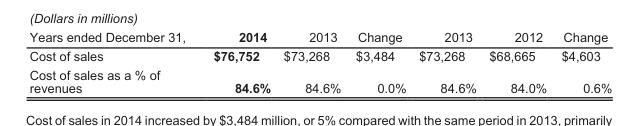table: (28, 29, 611, 94)
table column: (28, 29, 198, 94), (198, 29, 276, 94), (276, 29, 347, 94), (411, 29, 482, 94), (482, 29, 553, 94), (347, 29, 411, 94), (553, 29, 611, 94)
table column header: (28, 29, 611, 46)
table row: (28, 65, 611, 94), (28, 46, 611, 65), (28, 29, 611, 46)
